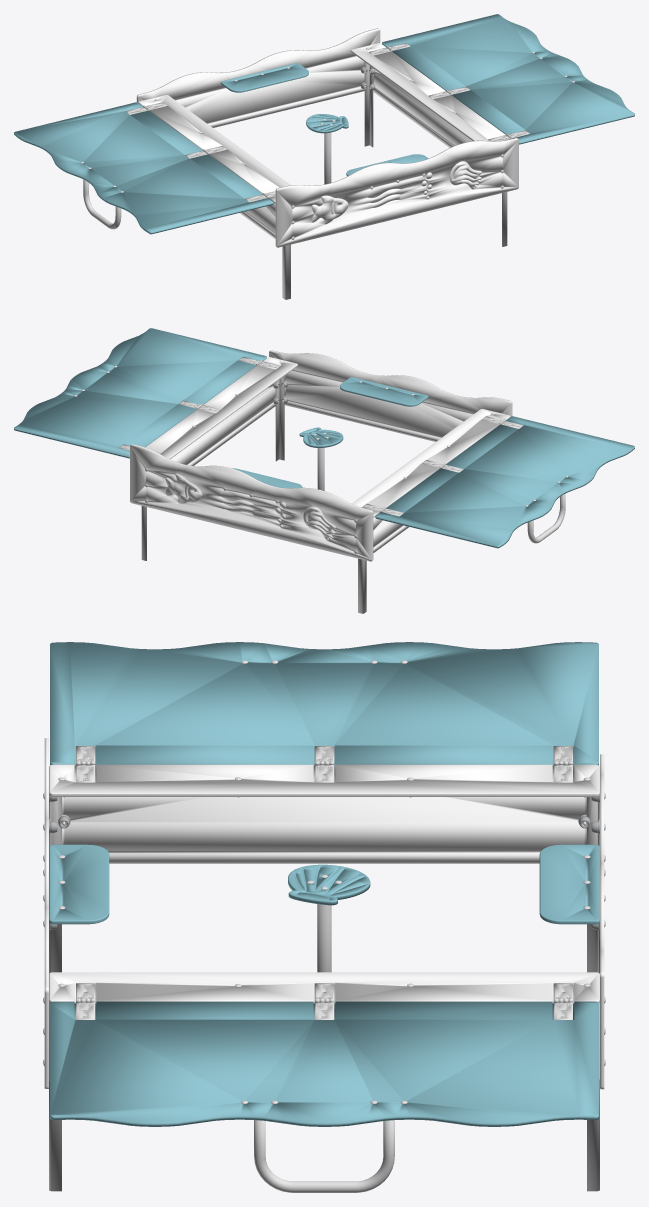
File: lgp_112.glb
3 views of the same model, one above another, from view 1: azimuth 30°, elevation 25°; view 2: azimuth 150°, elevation 25°; view 3: azimuth 270°, elevation 25° (orthographic). The views are drawn at different scales.
Parts seen in each view (by area): view 1: ЛГП-112П_248, ЛГП-112П_303, ЛГП-112П_246, ЛГП-112П_247, ЛГП-112П_29, ЛГП-112П_25, ЛГП-112П_28, ЛГП-112П_88, ЛГП-112П_03, ЛГП-112П_24, ЛГП-112П_23, ЛГП-112П_266 (+2 smaller); view 2: ЛГП-112П_248, ЛГП-112П_303, ЛГП-112П_247, ЛГП-112П_246, ЛГП-112П_29, ЛГП-112П_25, ЛГП-112П_28, ЛГП-112П_26, ЛГП-112П_07, ЛГП-112П_24, ЛГП-112П_23, ЛГП-112П_266 (+2 smaller); view 3: ЛГП-112П_303, ЛГП-112П_248, ЛГП-112П_24, ЛГП-112П_25, ЛГП-112П_29, ЛГП-112П_26, ЛГП-112П_88, ЛГП-112П_306, ЛГП-112П_23, ЛГП-112П_246, ЛГП-112П_247, ЛГП-112П_01 (+4 smaller).
Boxes of the visible parts, x1,y1,x2,y2 form: ЛГП-112П_248: (14, 102, 273, 234); ЛГП-112П_303: (382, 14, 634, 144); ЛГП-112П_246: (275, 138, 518, 247); ЛГП-112П_247: (136, 28, 380, 127); ЛГП-112П_29: (351, 43, 510, 141); ЛГП-112П_25: (138, 95, 290, 203); ЛГП-112П_28: (373, 70, 472, 147); ЛГП-112П_88: (220, 63, 308, 92); ЛГП-112П_03: (360, 62, 375, 147); ЛГП-112П_24: (240, 203, 275, 238); ЛГП-112П_23: (306, 114, 348, 133); ЛГП-112П_266: (83, 179, 121, 229); ЛГП-112П_248: (375, 416, 634, 548); ЛГП-112П_303: (14, 328, 266, 458); ЛГП-112П_247: (130, 444, 373, 561); ЛГП-112П_246: (269, 350, 512, 441); ЛГП-112П_29: (145, 357, 297, 459); ЛГП-112П_25: (352, 409, 510, 517); ЛГП-112П_28: (170, 384, 275, 465); ЛГП-112П_26: (340, 377, 428, 406); ЛГП-112П_07: (273, 376, 288, 461); ЛГП-112П_24: (373, 517, 408, 552); ЛГП-112П_23: (299, 427, 343, 447); ЛГП-112П_266: (527, 493, 565, 543); ЛГП-112П_303: (50, 1001, 598, 1126); ЛГП-112П_248: (50, 642, 598, 765); ЛГП-112П_24: (62, 797, 586, 863); ЛГП-112П_25: (49, 764, 599, 796); ЛГП-112П_29: (49, 972, 599, 1003); ЛГП-112П_26: (49, 844, 109, 924); ЛГП-112П_88: (539, 844, 599, 924); ЛГП-112П_306: (254, 1120, 394, 1192); ЛГП-112П_23: (288, 864, 370, 905); ЛГП-112П_246: (44, 738, 48, 1088); ЛГП-112П_247: (600, 754, 604, 1089); ЛГП-112П_01: (578, 795, 599, 973).
Size of the model in its own units: 8.07 by 1.78 by 3.99.
